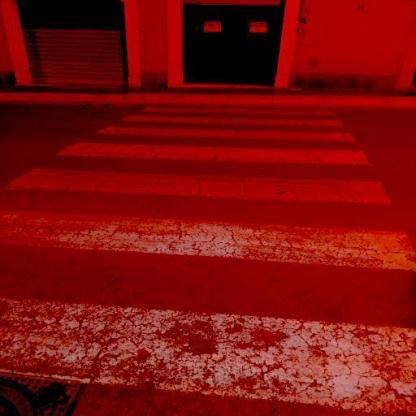crosswalk: (2, 206, 416, 416), (51, 125, 376, 168)
